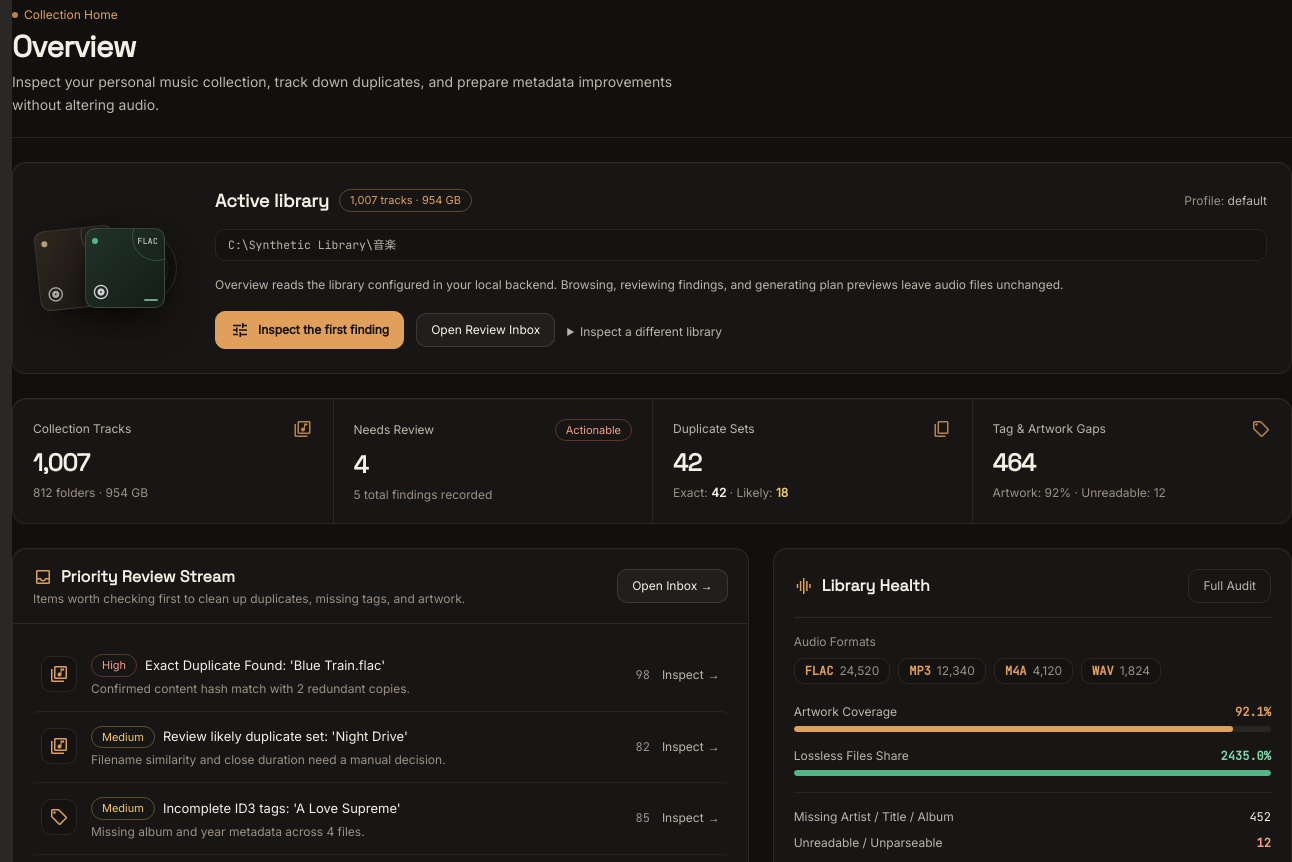
Overview first run › shows launcher instructions for switching libraries in review-only mode
Click the heading "Inspect a different library" at (645, 332), box [567,324,722,340]
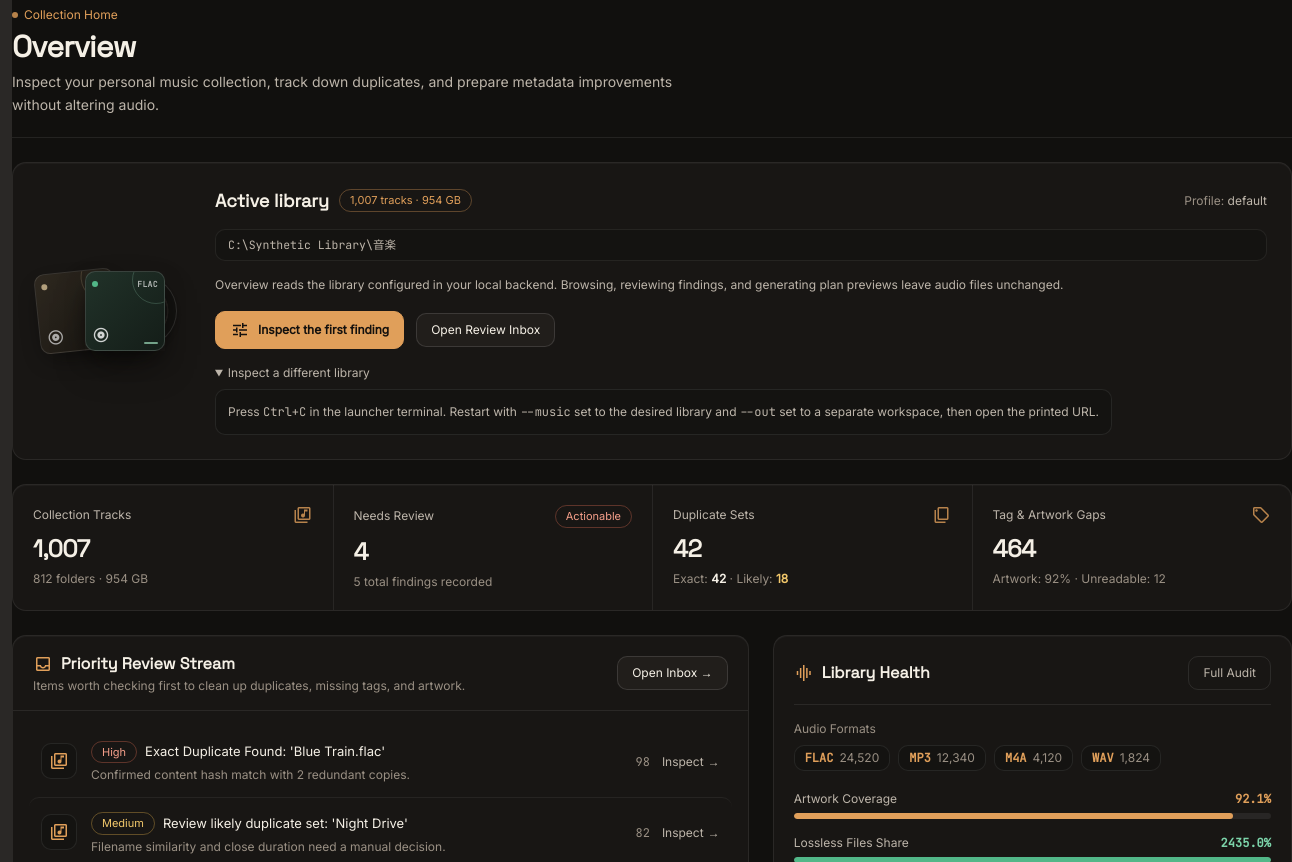
Result: the text "--music" is shown at [520,404,571,420]
Result: the text "--out" is shown at [740,404,776,420]
